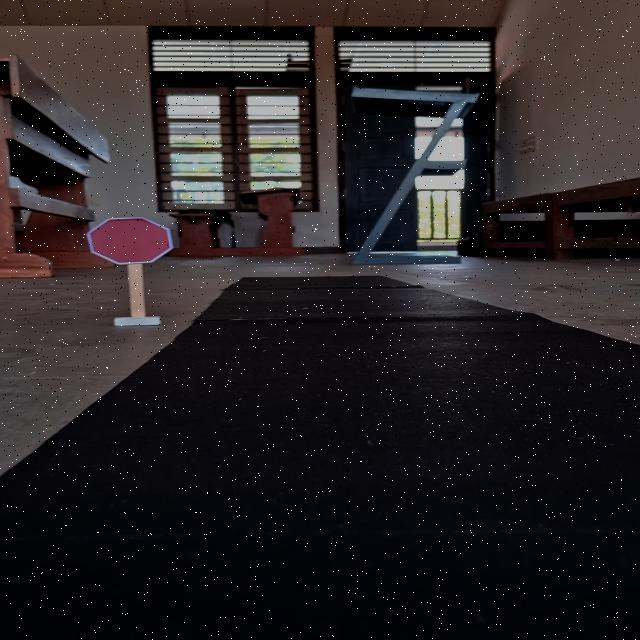Stop: (84, 217, 175, 266)
